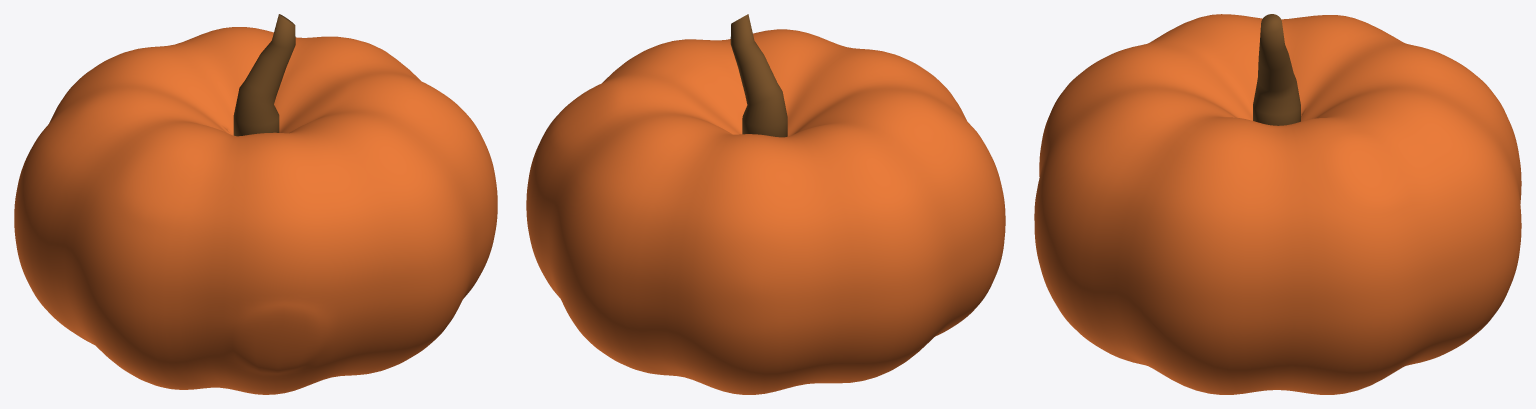
The model's file is pumpkin.fbx.
3 renders of one model, left to right at view 1: azimuth 30°, elevation 25°; view 2: azimuth 150°, elevation 25°; view 3: azimuth 270°, elevation 25°, orthographic. The views are drawn at different scales.
Parts seen in each view (by area): view 1: Pumpkin, Stem; view 2: Pumpkin, Stem; view 3: Pumpkin, Stem.
Part boxes in pixels (<box>): Pumpkin: <box>14,27,497,394</box>; Stem: <box>233,14,295,136</box>; Pumpkin: <box>526,29,1005,394</box>; Stem: <box>730,14,787,137</box>; Pumpkin: <box>1034,14,1521,394</box>; Stem: <box>1253,14,1300,125</box>.
Size of the model in its own units: 265 by 198 by 264.
